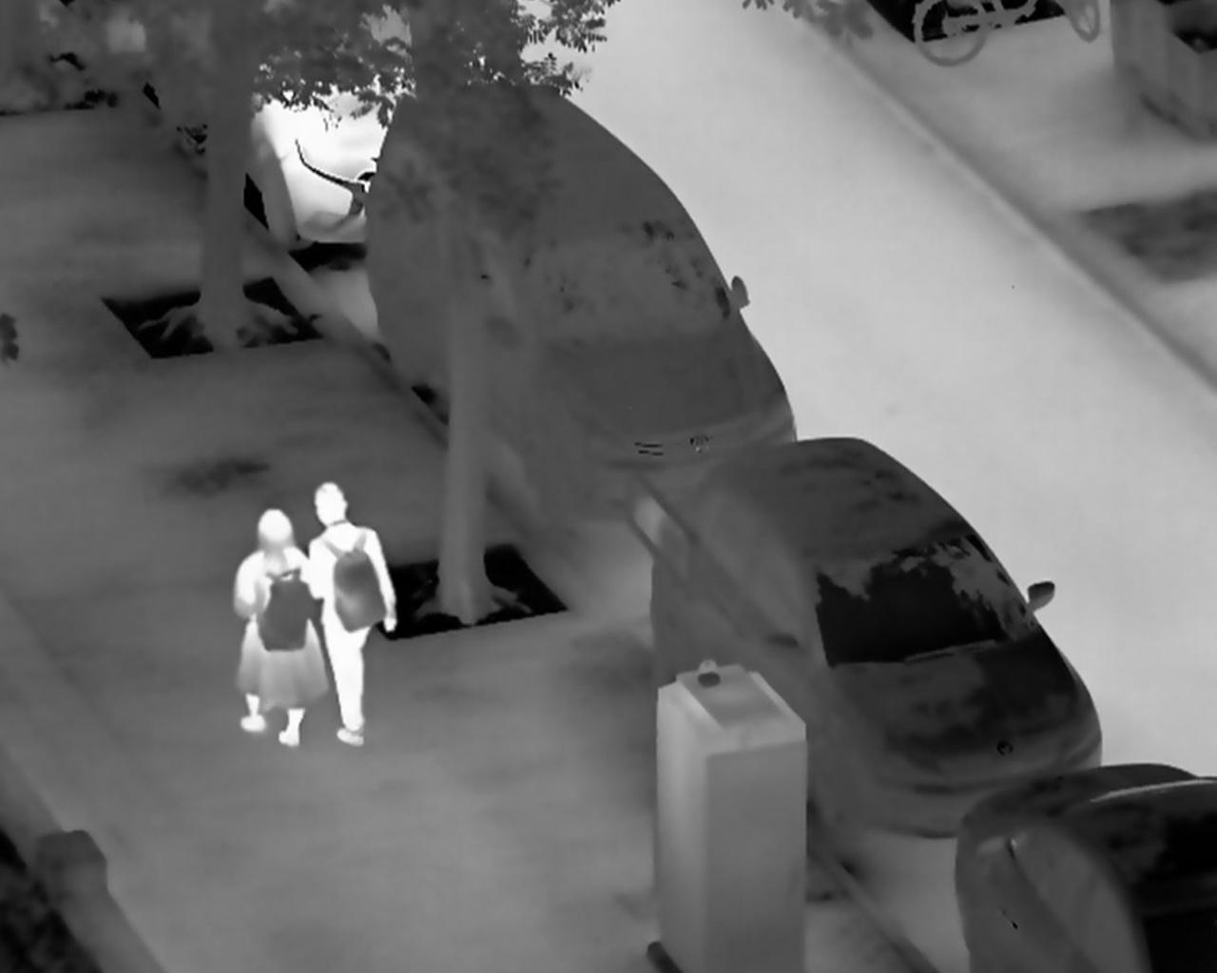person: (303, 479, 400, 754), (230, 506, 330, 749)
